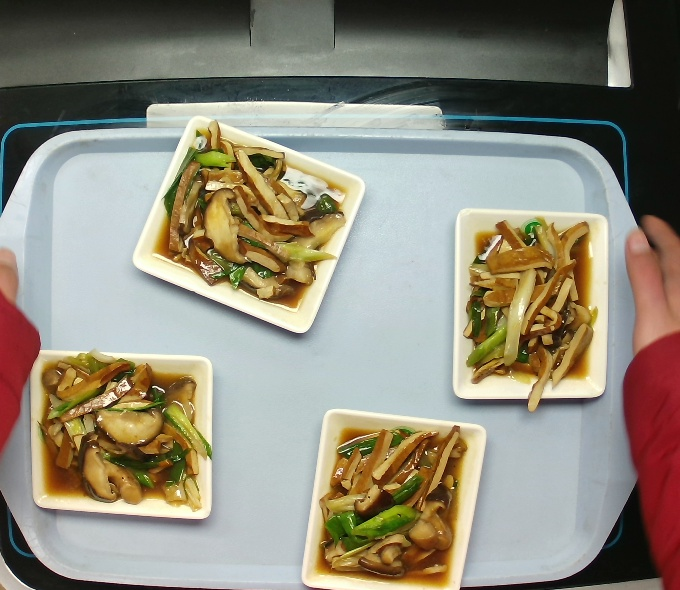wcq-XiangGuChaoXiangGan: (158, 124, 345, 307), (37, 355, 200, 505), (318, 424, 468, 584), (463, 219, 594, 385)
